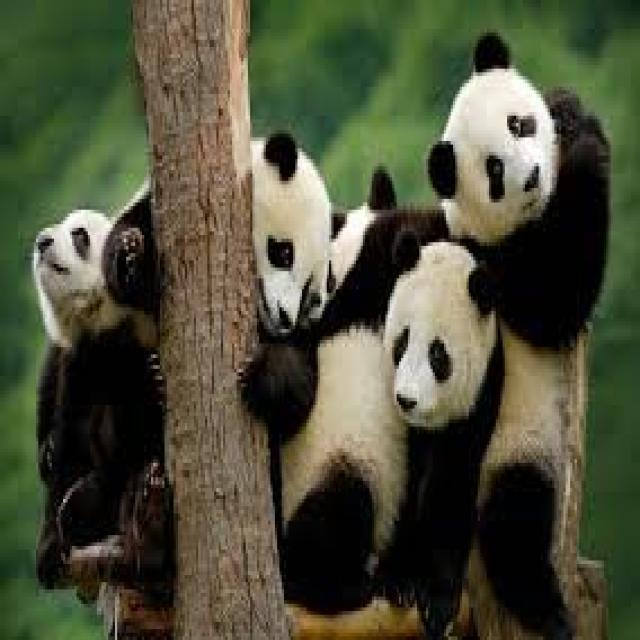Panda: (439, 39, 605, 618), (128, 130, 330, 548), (319, 215, 495, 628), (30, 201, 126, 578)
